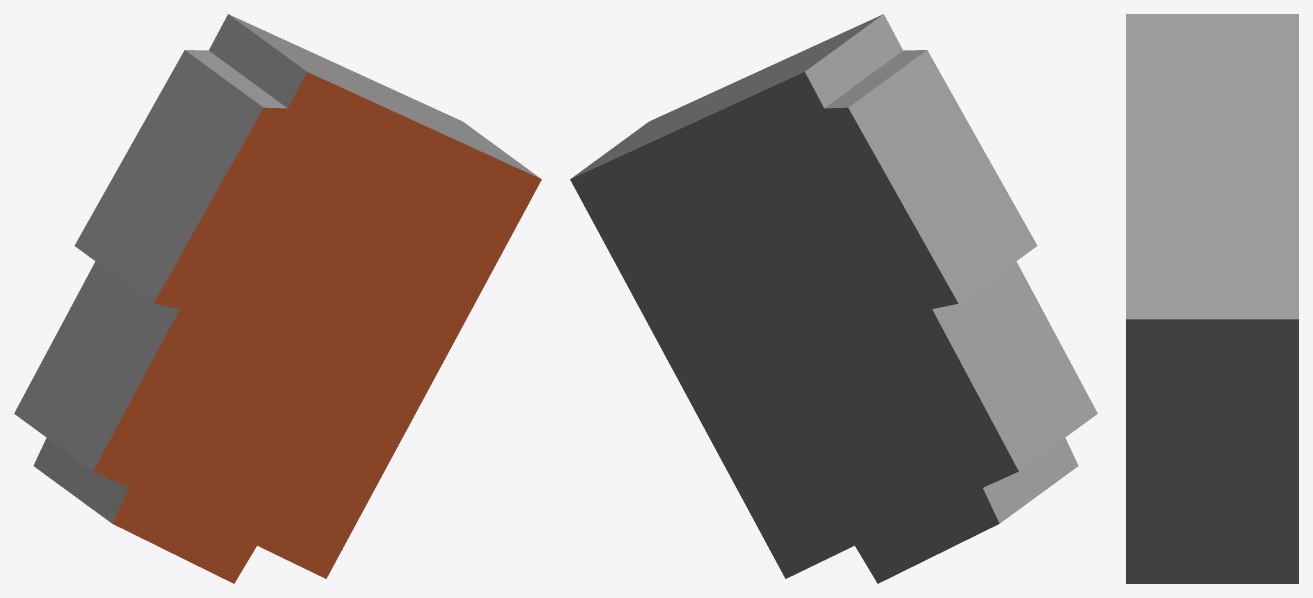
File: construction_4405_assumed_A_Casa_h6m.obj
3 renders of one model, left to right at view 1: azimuth 30°, elevation 25°; view 2: azimuth 150°, elevation 25°; view 3: azimuth 270°, elevation 25°, orthographic. The views are drawn at different scales.
Parts seen in each view (by area): view 1: construction_4405_assumed_A_Casa; view 2: construction_4405_assumed_A_Casa; view 3: construction_4405_assumed_A_Casa.
Boxes of the visible parts, bbox=[...] form: construction_4405_assumed_A_Casa: bbox=[14, 14, 541, 583]; construction_4405_assumed_A_Casa: bbox=[570, 14, 1097, 583]; construction_4405_assumed_A_Casa: bbox=[1126, 14, 1298, 583].
Size of the model in its own units: 19.68 by 21.45 by 6.
